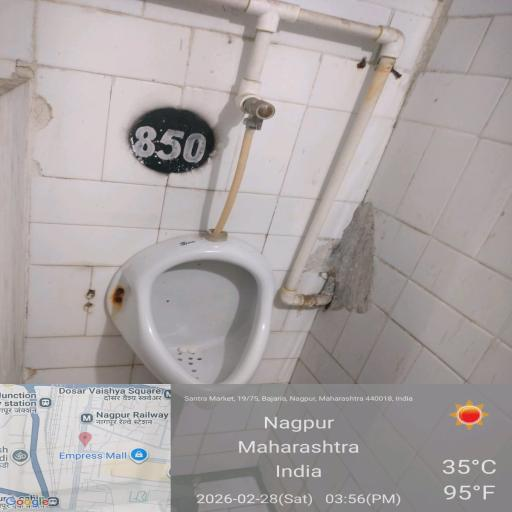clean_floor: (30, 36, 461, 204)
clean_urinal: (106, 237, 286, 404)
partial_dirty_floor: (71, 349, 496, 512)
